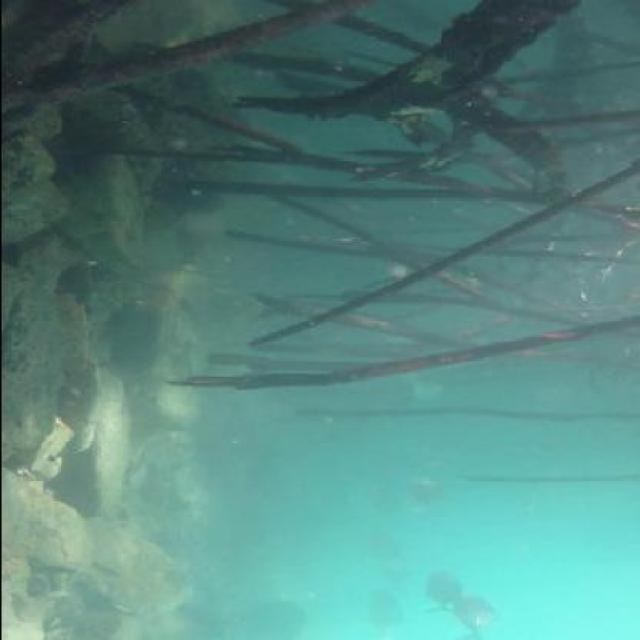Caranx_sexfasciatus_juvenile: (358, 534, 409, 598), (415, 574, 471, 621), (401, 471, 462, 512), (354, 602, 411, 640), (457, 591, 501, 640)
